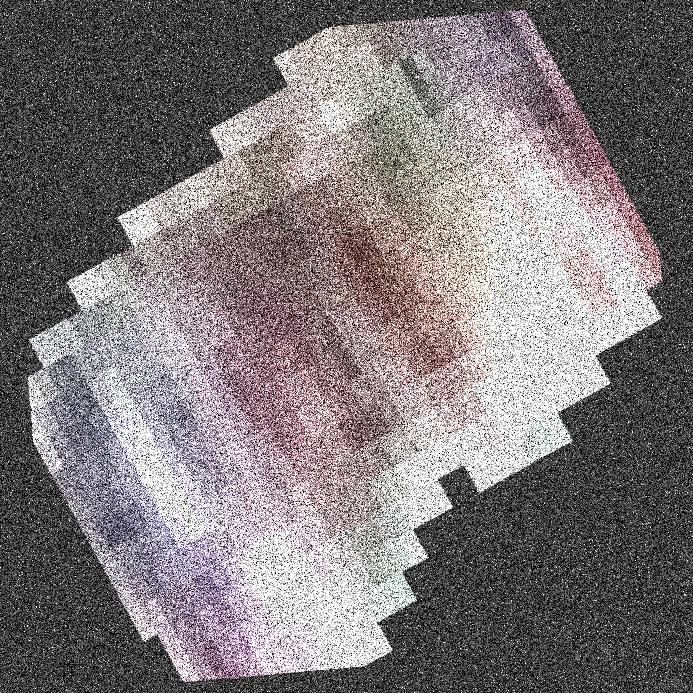Oculos: (69, 0, 692, 692)
